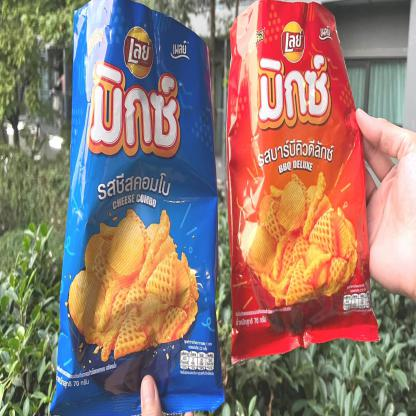potatochip: (46, 0, 228, 416), (222, 0, 384, 369)
